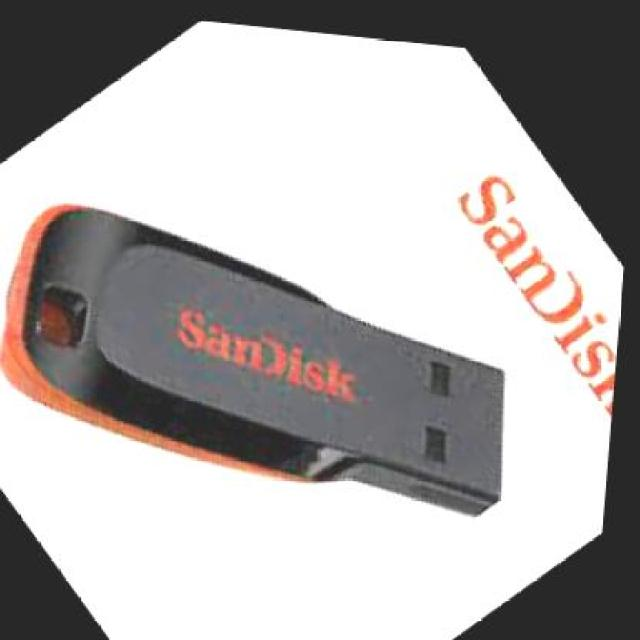Flashdisk: (0, 14, 600, 640)
